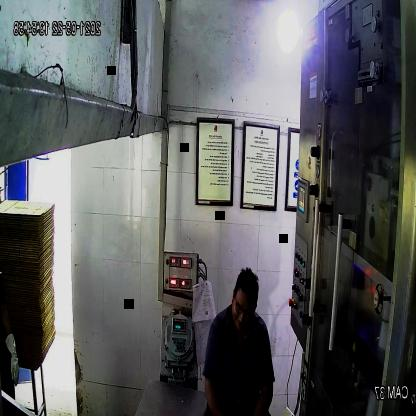goggles: (230, 299, 258, 325)
